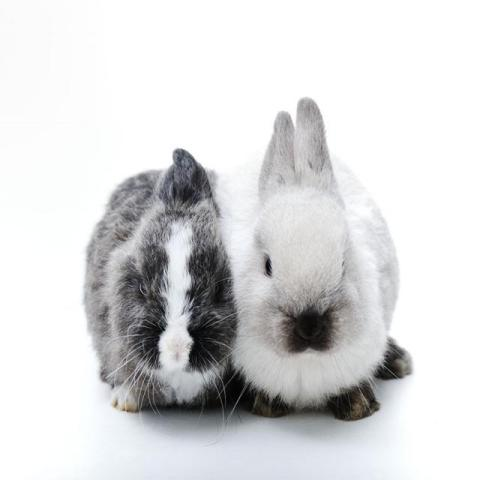small_animal: (230, 95, 413, 422), (81, 146, 239, 415)
